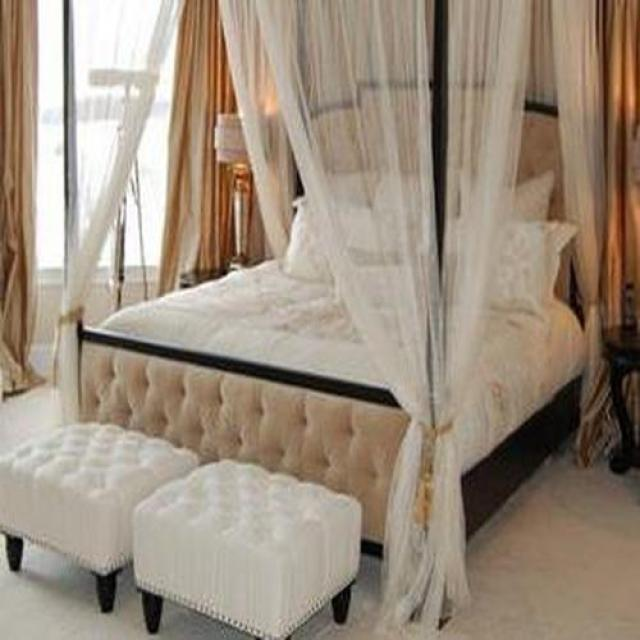bed: (54, 82, 585, 631)
